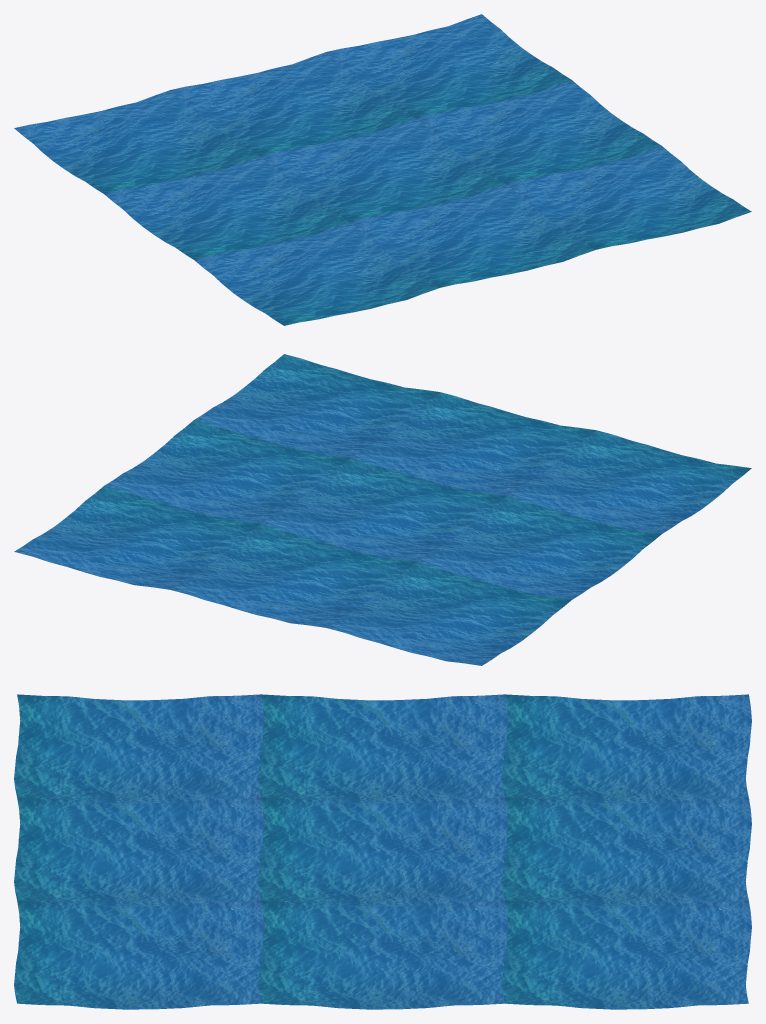
The model's file is ocean_000177.obj.
The picture shows the model from 3 angles, top to bottom: view 1: azimuth 30°, elevation 25°; view 2: azimuth 150°, elevation 25°; view 3: azimuth 270°, elevation 25°; orthographic projection. The views are drawn at different scales.
Visible parts, largest first — view 1: Ocean_Plan.001; view 2: Ocean_Plan.001; view 3: Ocean_Plan.001.
Boxes of the visible parts, x1,y1,x2,y2 form: Ocean_Plan.001: (14, 14, 751, 325); Ocean_Plan.001: (14, 354, 751, 665); Ocean_Plan.001: (14, 694, 751, 1009).
Bounding box in the file's own units: 109028 × 1888 × 109894.
1 material, 1 textured.
